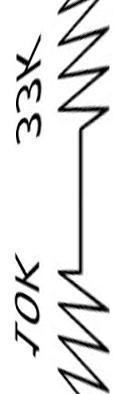resistor: (45, 0, 117, 135), (47, 253, 118, 387)
